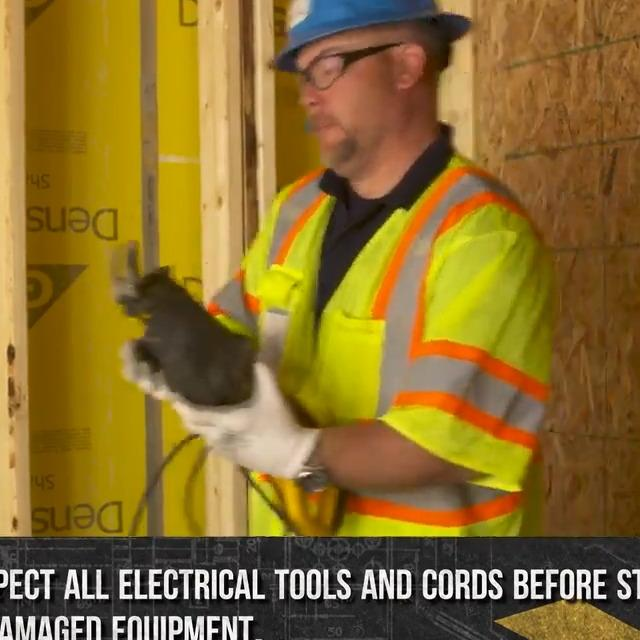Gloves: (173, 359, 321, 484), (121, 334, 182, 404)
Hardhat: (263, 0, 475, 73)
NO-Mask: (311, 80, 409, 174)
Person: (116, 0, 555, 534)
Safety Vest: (203, 149, 551, 537)
